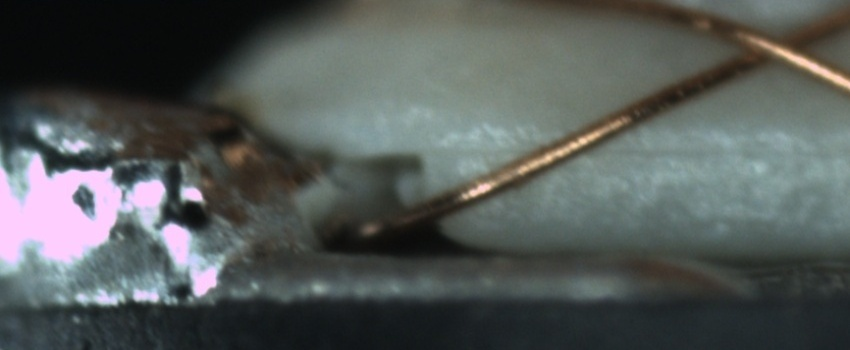CL: (714, 9, 843, 81)
DL: (461, 118, 849, 179)
